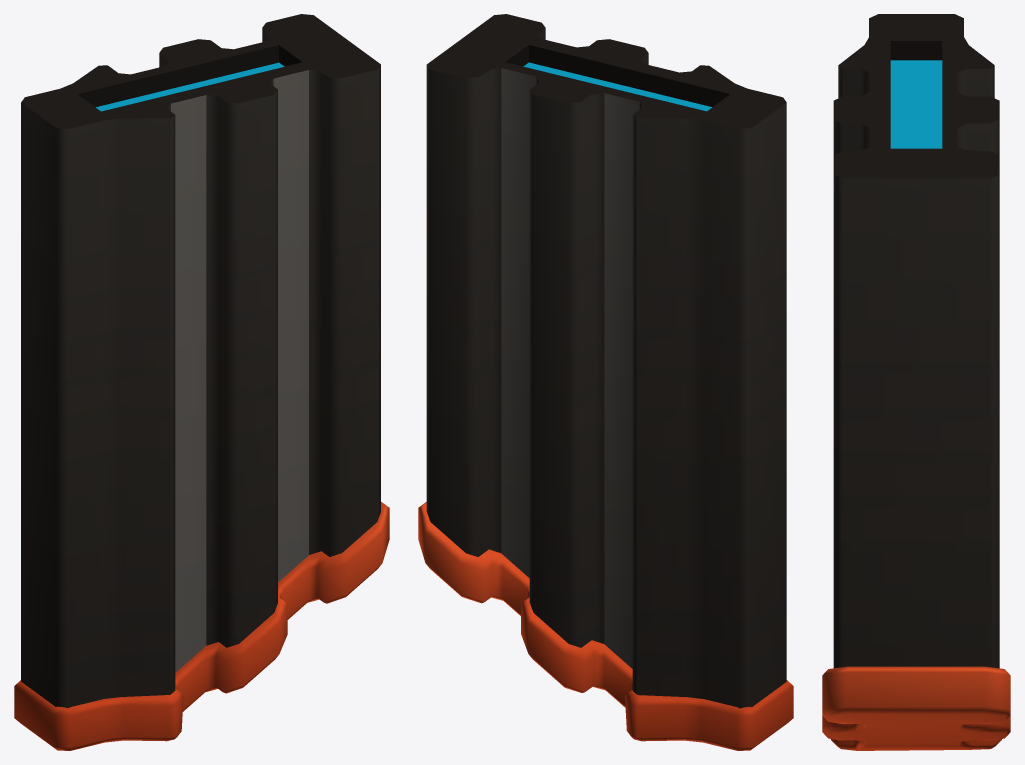
Rendered from AR7_MagazineExtended.fbx.
The picture shows the model from 3 angles, left to right: view 1: azimuth 30°, elevation 25°; view 2: azimuth 150°, elevation 25°; view 3: azimuth 270°, elevation 25°; orthographic projection. The views are drawn at different scales.
Visible parts, largest first — view 1: AR7_MagazineExtended; view 2: AR7_MagazineExtended; view 3: AR7_MagazineExtended.
Part boxes in pixels (x1,y1,x2,y2): AR7_MagazineExtended: (14, 14, 389, 750); AR7_MagazineExtended: (418, 14, 793, 750); AR7_MagazineExtended: (822, 14, 1010, 750).
Bounding box in the file's own units: 9.14 × 16.79 × 4.22.
